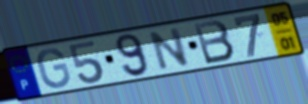5: (68, 39, 106, 86)
7: (232, 12, 262, 59)
9: (114, 32, 151, 78)
B: (191, 19, 237, 67)
G: (36, 47, 73, 90)
N: (148, 25, 192, 73)
